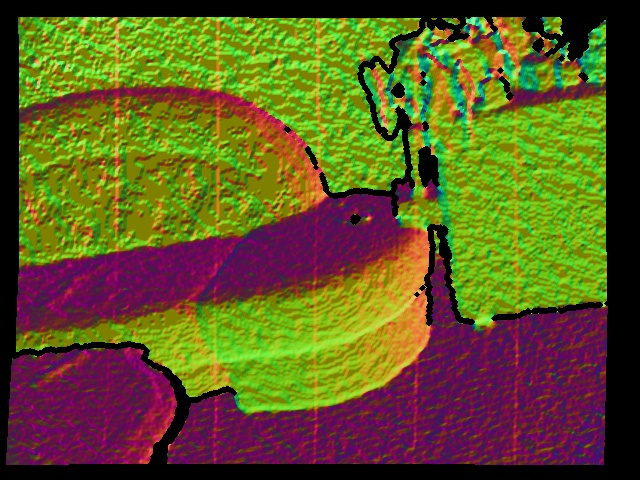station: (394, 125, 444, 227)
